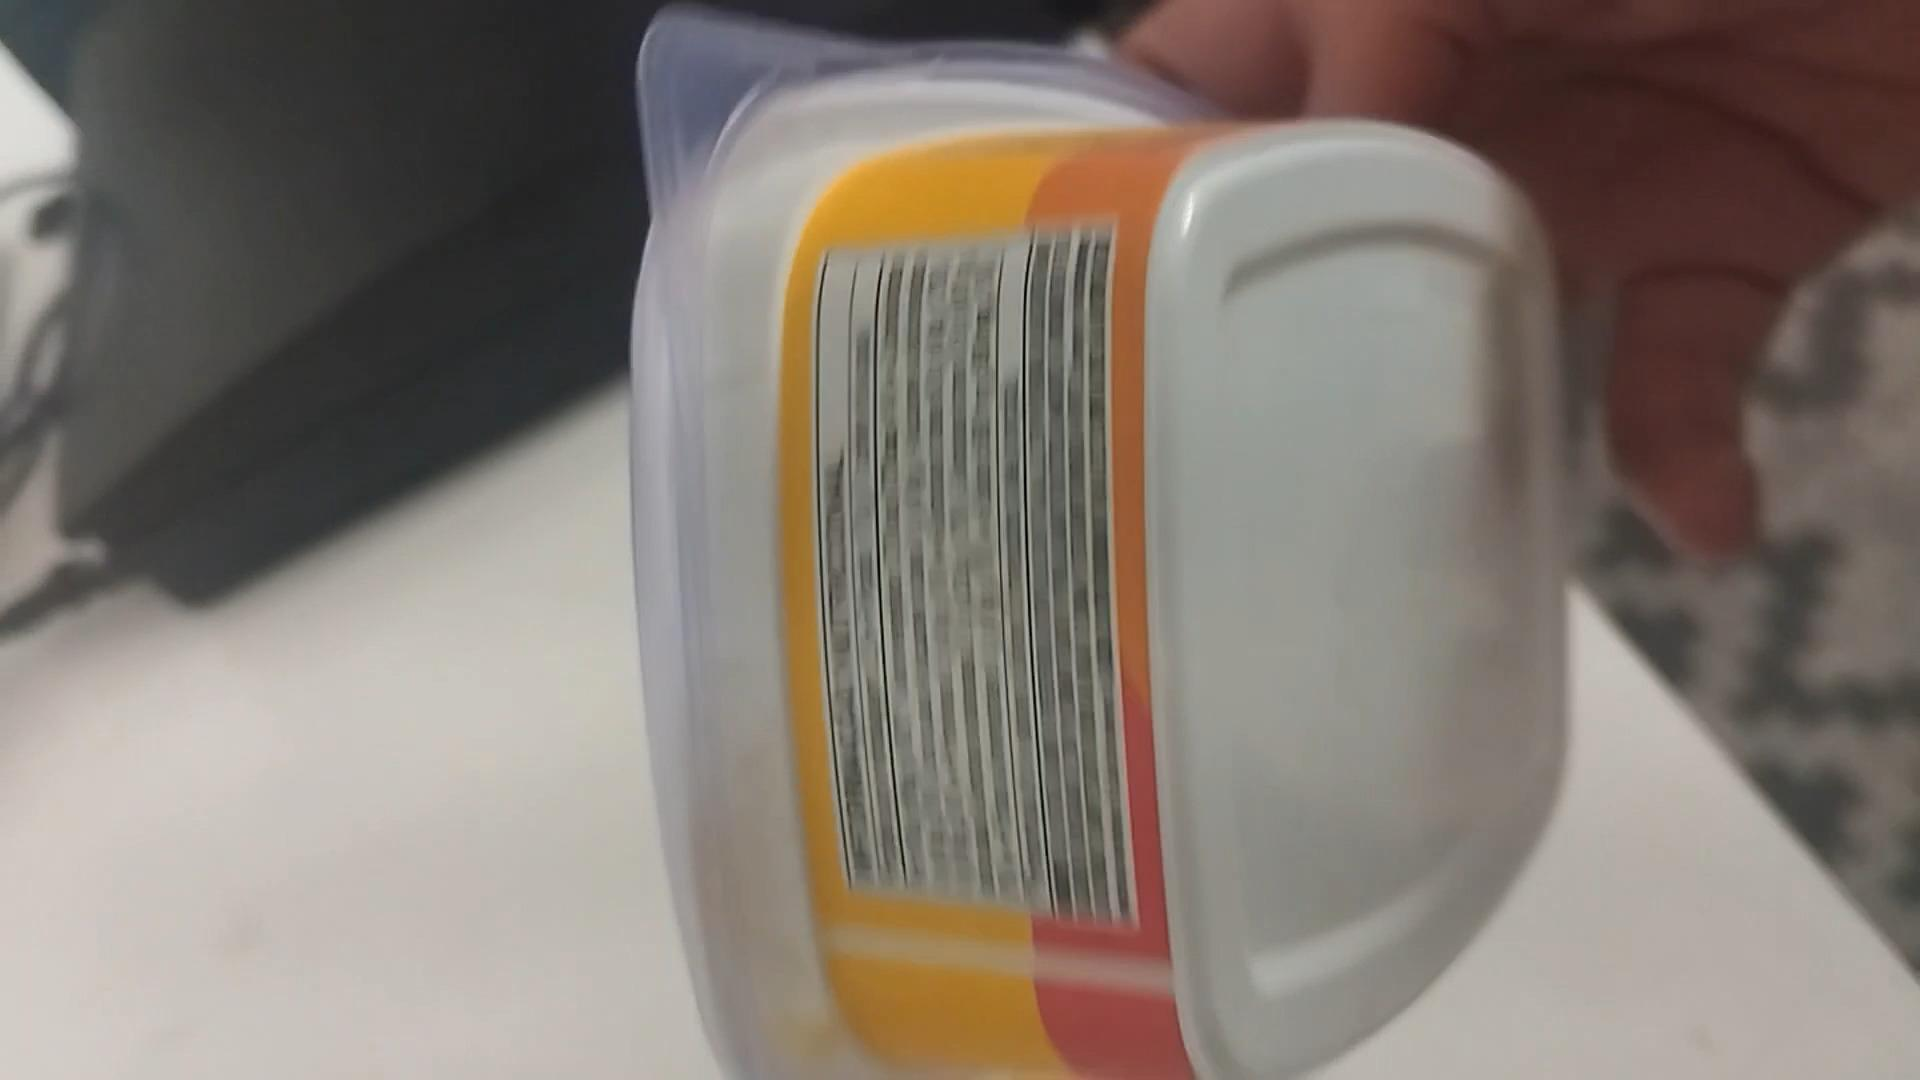butter: (620, 12, 1564, 1080)
